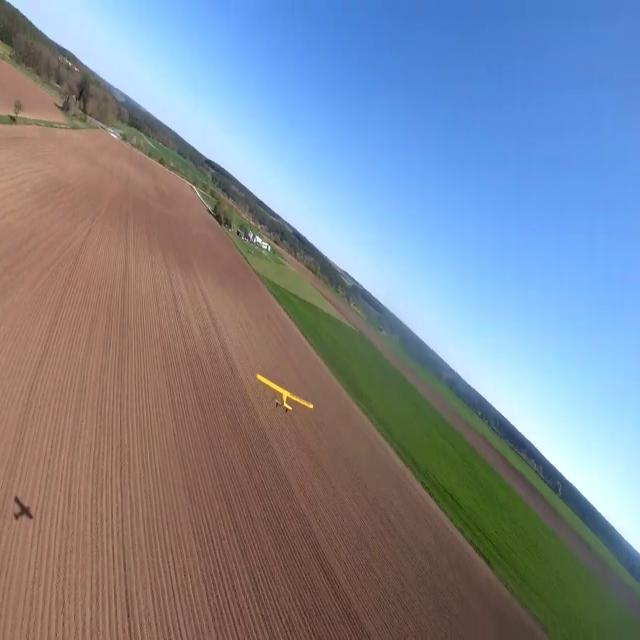iha: (256, 366, 314, 409)
